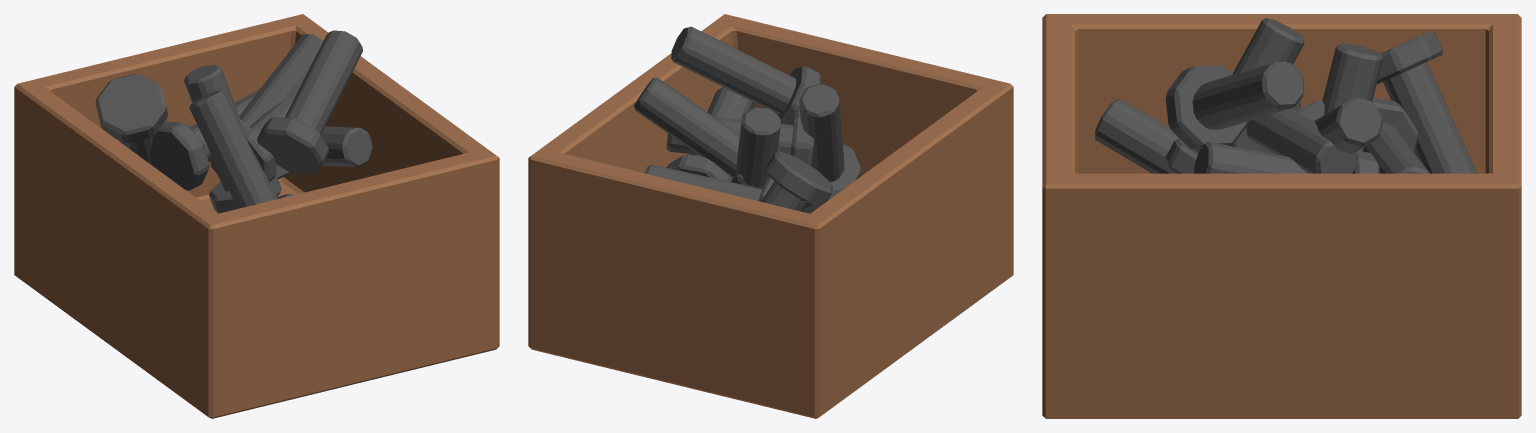
Rendered from caja_de_tornillos.fbx.
3 renders of one model, left to right at view 1: azimuth 30°, elevation 25°; view 2: azimuth 150°, elevation 25°; view 3: azimuth 270°, elevation 25°, orthographic. The views are drawn at different scales.
Visible parts, largest first — view 1: caja_tornillos; view 2: caja_tornillos; view 3: caja_tornillos.
Boxes of the visible parts, box(x1,y1,x2,y2) form: caja_tornillos: box(14, 14, 499, 418); caja_tornillos: box(528, 14, 1013, 418); caja_tornillos: box(1042, 14, 1521, 418).
Size of the model in its own units: 0.7421 by 0.6418 by 0.8685.
